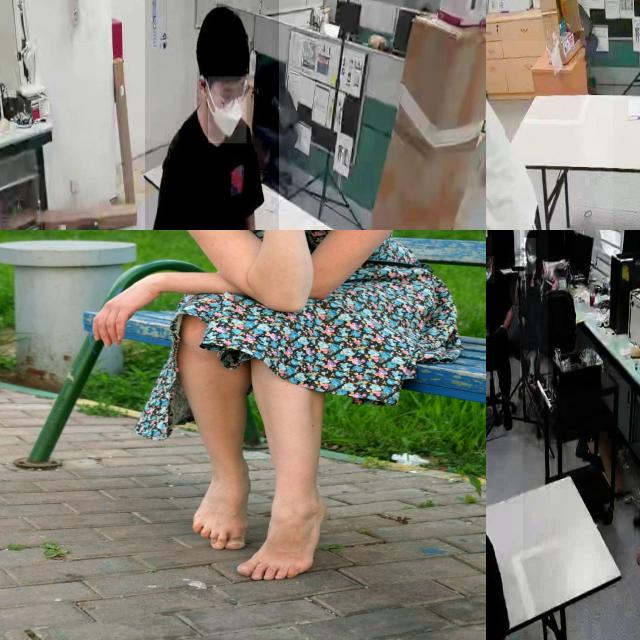Barefoots: (238, 493, 326, 580), (192, 464, 252, 550)
face_mask: (208, 77, 246, 143), (524, 237, 536, 275), (486, 255, 495, 284)
glasses: (220, 78, 247, 112)
hand_noglove: (492, 322, 508, 338), (486, 326, 490, 338)
head_nohelmet: (196, 4, 248, 44), (486, 234, 492, 255), (524, 230, 539, 238)
person: (144, 0, 279, 230), (486, 41, 613, 230), (486, 230, 520, 452), (519, 230, 548, 396)
shoes: (497, 394, 516, 435), (486, 399, 491, 442)
